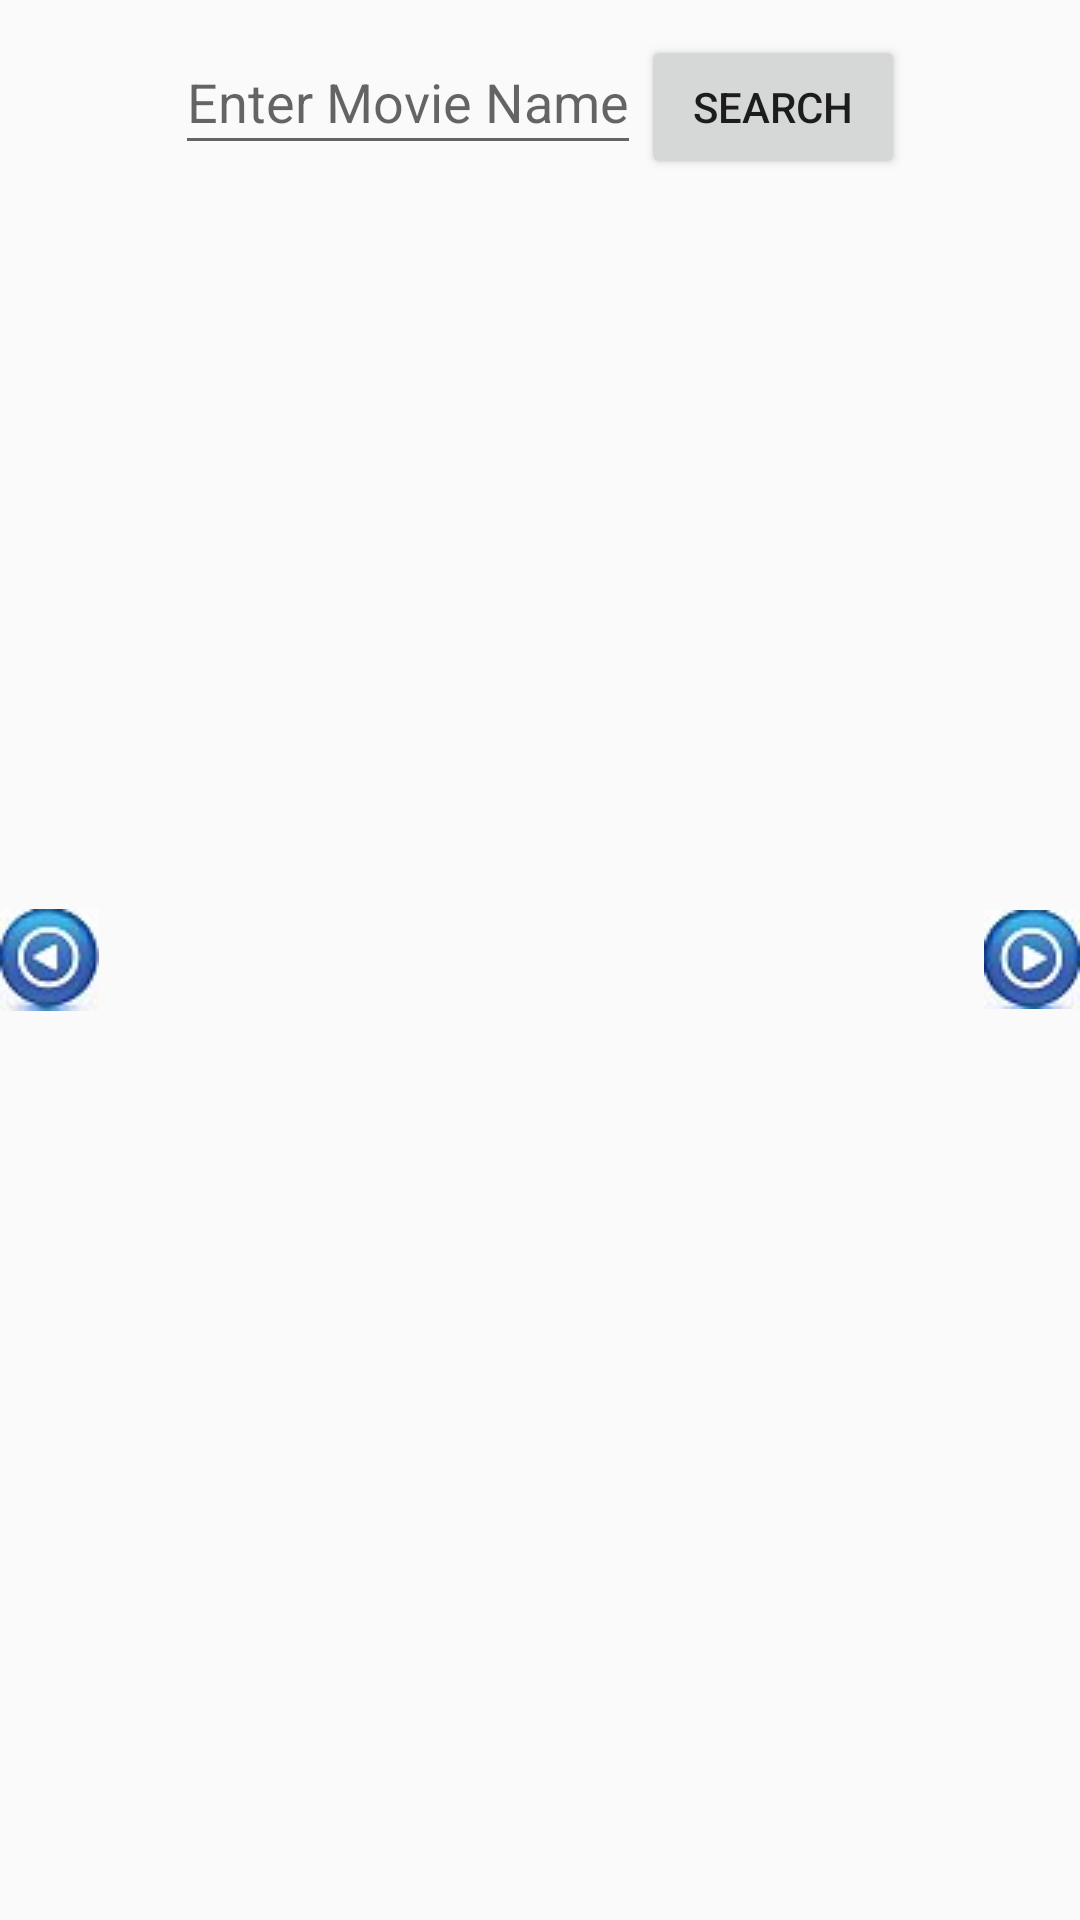

Icon click points for this 1080x1920 phone screenshot, format (x=x, y=y):
backward: (x=49, y=960)
forward: (x=1032, y=959)
